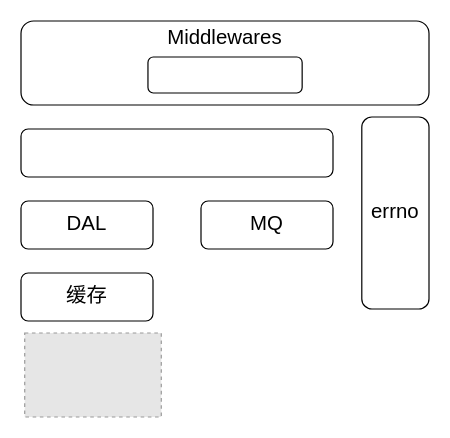
The diagram is 450 pixels wide and 438 high, and some of its shapes have lost their labels. Grey dashed boxes stand in for pictures. The centre of each missing label's shape, as x and y in pixels:
"Logger" belongs at [224,74].
"manager(handler)" belongs at [176,152].
